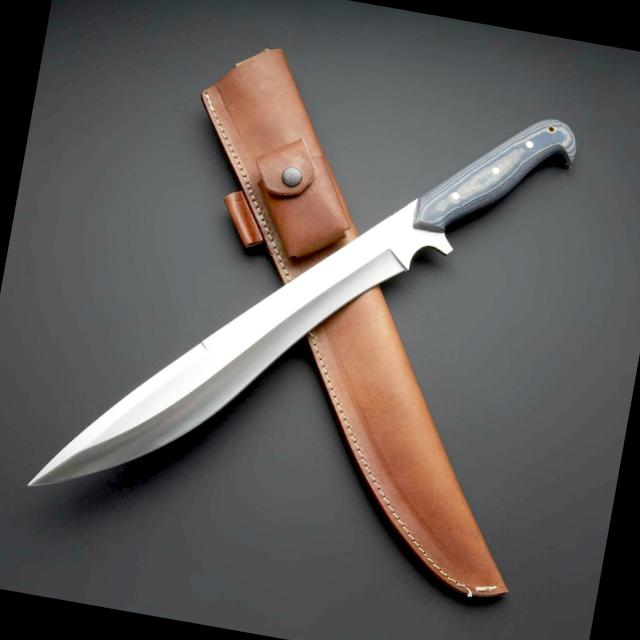short sword: (6, 0, 624, 636)
